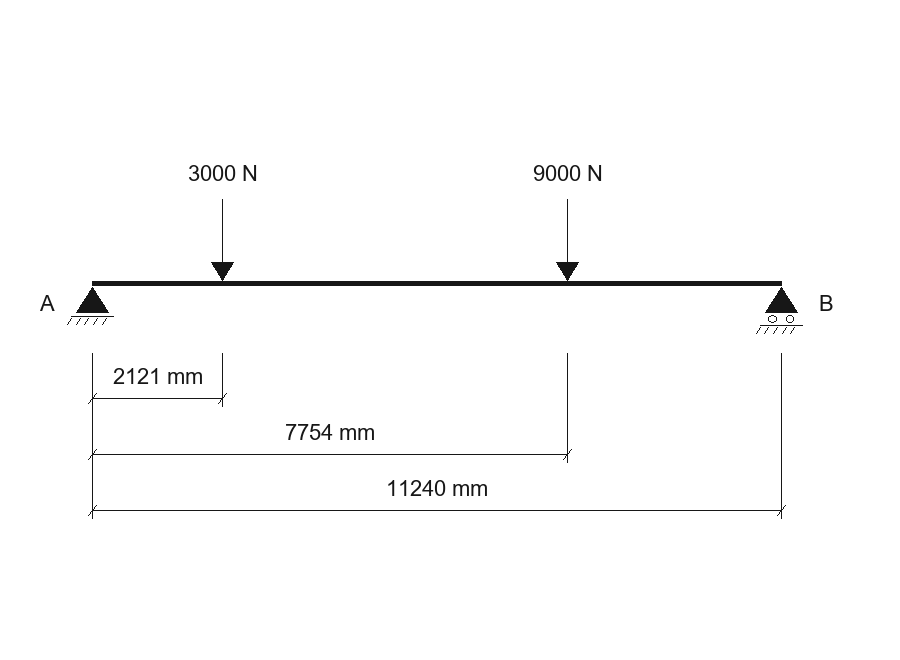pin_support: (67, 287, 114, 325)
point_load: (211, 199, 234, 281), (556, 199, 579, 281)
roller_support: (756, 287, 803, 334)
